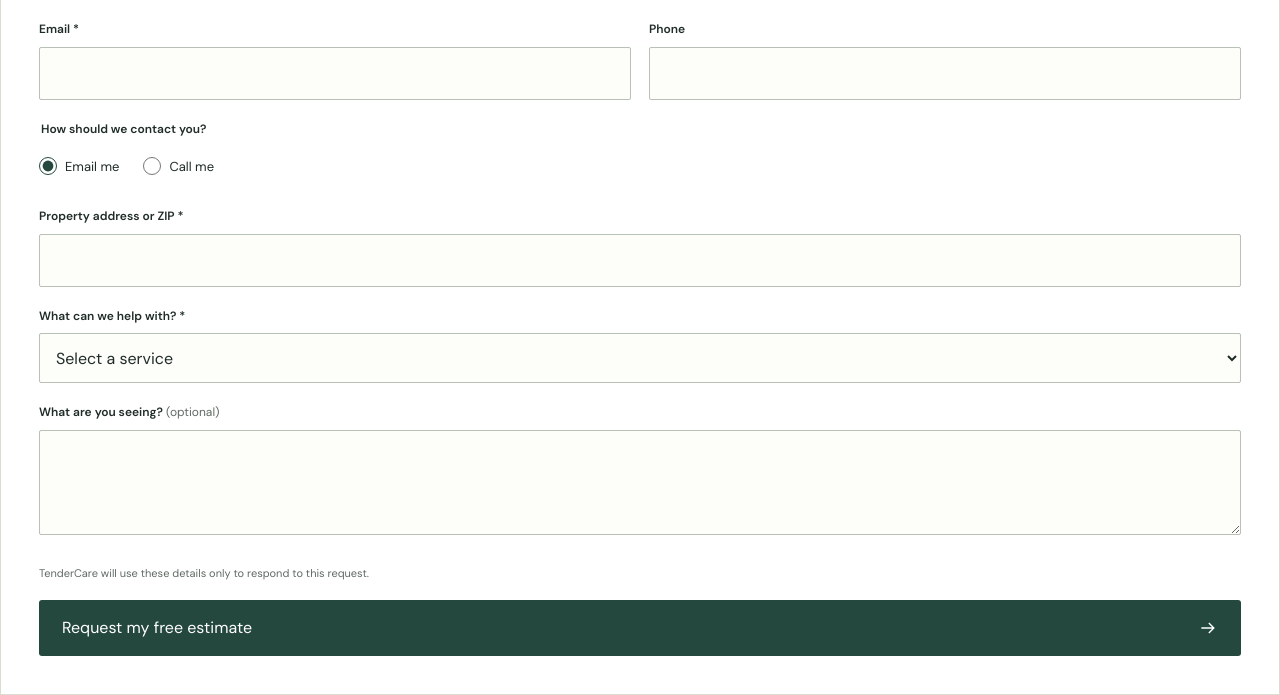
Estimate request › shows accessible validation errors without attempting delivery
(page scrolled)
Click the button "Request my free estimate" at [157, 627], box [39,600,1241,656]
(page scrolled)
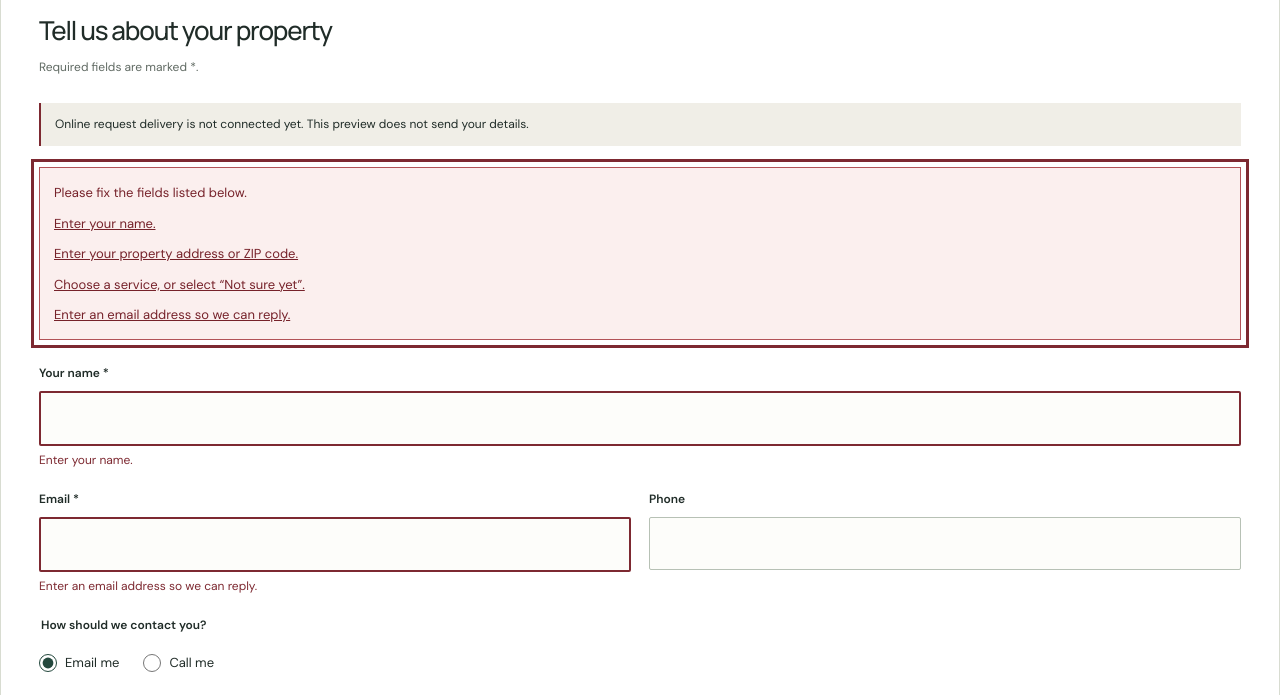
Now the message shows "Enter your name.", box [54,204,1226,234]
